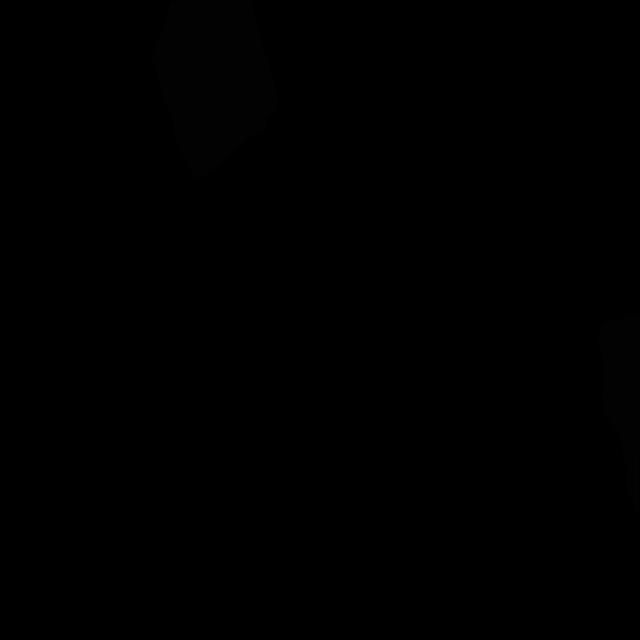cardboard: (152, 0, 278, 180), (598, 314, 640, 514)
